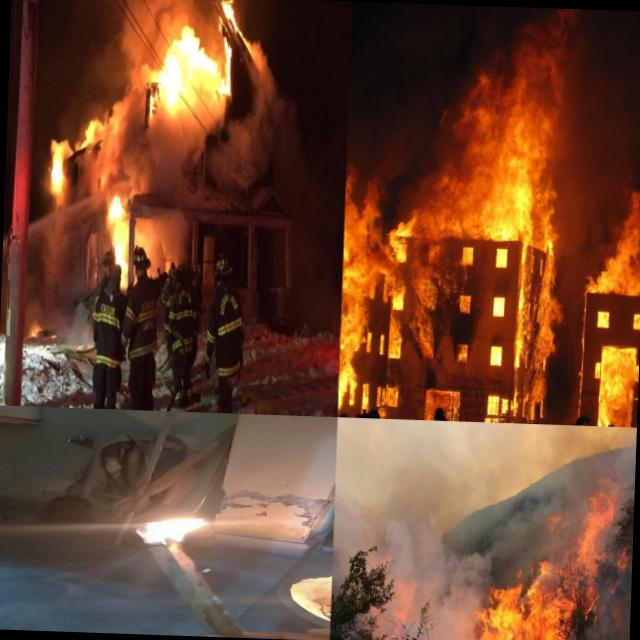fire: (380, 5, 572, 410), (575, 145, 640, 422), (338, 67, 382, 411), (483, 576, 580, 640), (104, 506, 215, 556), (159, 24, 218, 116), (578, 492, 602, 622), (215, 0, 240, 92), (105, 187, 131, 260), (536, 542, 582, 578), (600, 492, 620, 552), (48, 146, 64, 204), (618, 532, 632, 570), (27, 316, 46, 342)
smoke: (382, 418, 489, 640), (134, 113, 204, 250), (233, 36, 287, 205), (484, 422, 540, 578), (62, 88, 140, 186), (536, 424, 584, 543), (331, 505, 385, 604), (116, 0, 164, 92), (24, 205, 62, 318), (582, 426, 636, 492), (61, 185, 108, 259), (58, 259, 93, 348), (597, 577, 631, 640), (162, 0, 218, 27)
